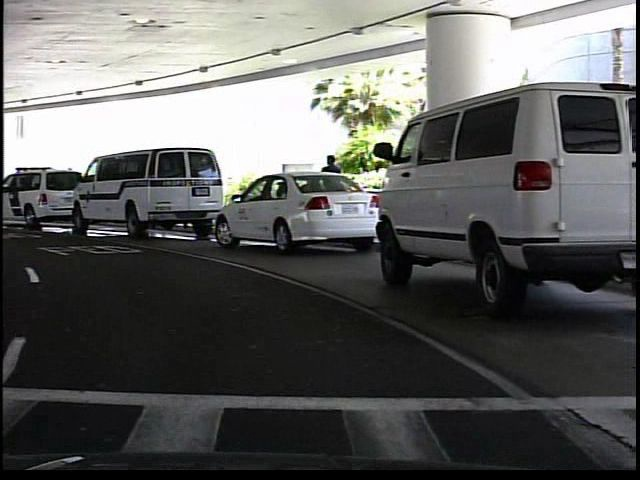person: (318, 150, 348, 231)
